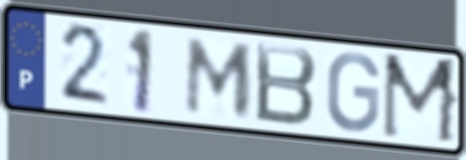1: (125, 27, 156, 117)
2: (56, 21, 112, 113)
B: (252, 39, 320, 130)
G: (323, 50, 382, 135)
M: (379, 50, 461, 148), (182, 35, 257, 120)
